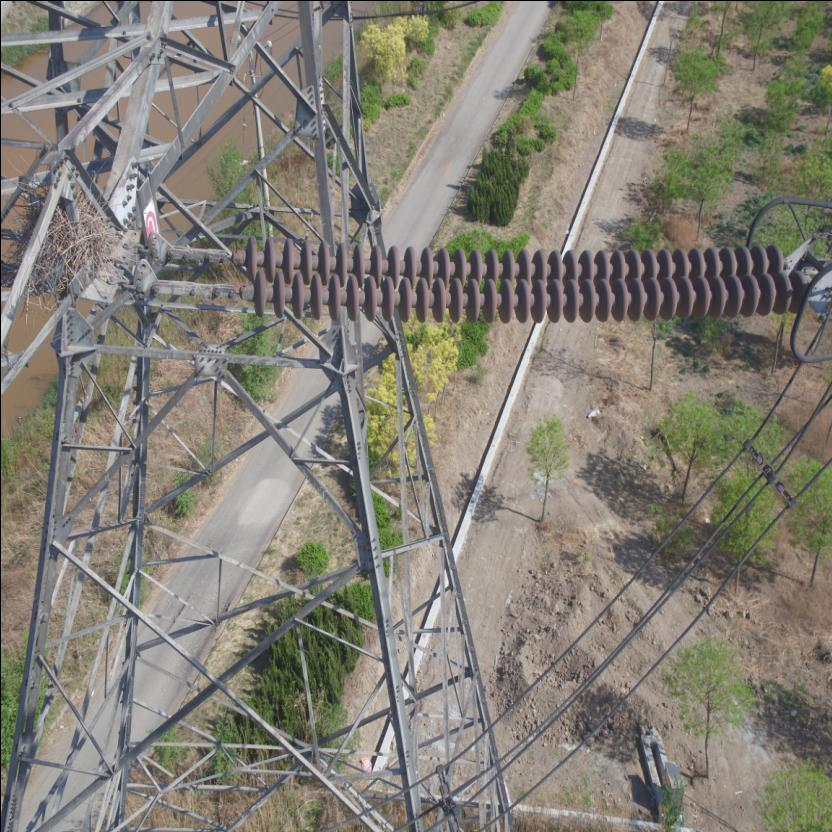insulator: (204, 231, 822, 324)
